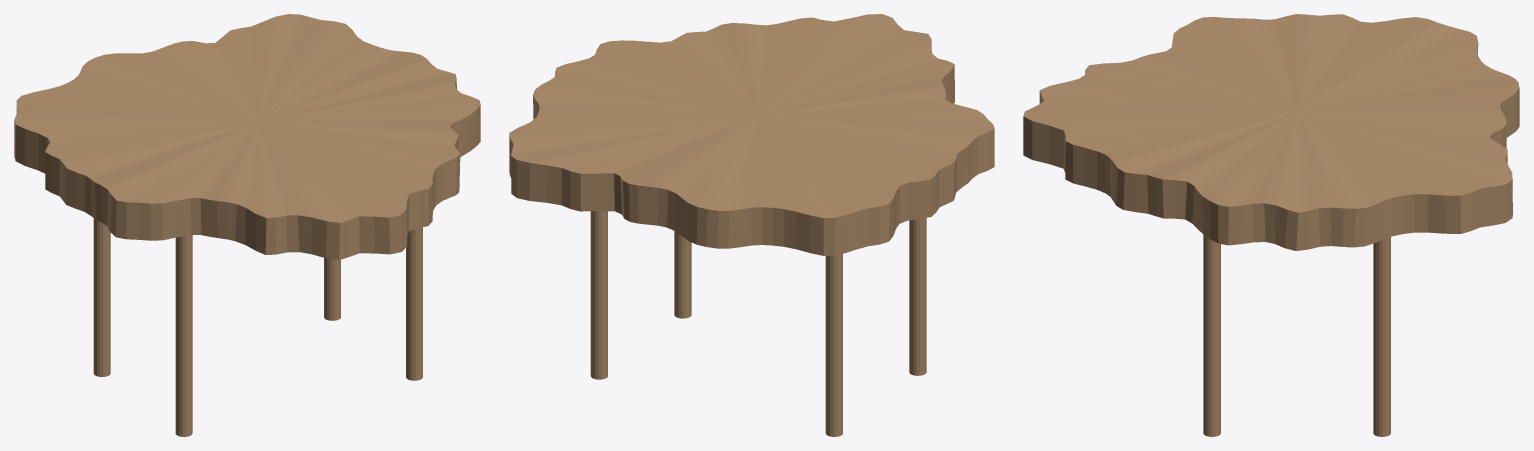
File: mesa_v01_sin_tapete.glb
3 views of the same model, side by side, from view 1: azimuth 30°, elevation 25°; view 2: azimuth 150°, elevation 25°; view 3: azimuth 270°, elevation 25° (orthographic). The views are drawn at different scales.
Visible parts, largest first — view 1: Tapa_Organica_V1, Pata_V1_1, Pata_V1_3, Pata_V1_2, Pata_V1_4; view 2: Tapa_Organica_V1, Pata_V1_3, Pata_V1_4, Pata_V1_1, Pata_V1_2; view 3: Tapa_Organica_V1, Pata_V1_2, Pata_V1_4.
Boxes of the visible parts, x1,y1,x2,y2 form: Tapa_Organica_V1: [14, 14, 480, 260]; Pata_V1_1: [175, 235, 192, 436]; Pata_V1_3: [93, 218, 110, 376]; Pata_V1_2: [406, 227, 422, 380]; Pata_V1_4: [324, 258, 340, 320]; Tapa_Organica_V1: [509, 14, 994, 255]; Pata_V1_3: [825, 254, 842, 436]; Pata_V1_4: [590, 211, 607, 379]; Pata_V1_1: [909, 218, 926, 375]; Pata_V1_2: [674, 231, 691, 318]; Tapa_Organica_V1: [1023, 14, 1519, 250]; Pata_V1_2: [1203, 234, 1220, 436]; Pata_V1_4: [1373, 237, 1390, 436].
Size of the model in its own units: 1.32 by 0.8236 by 1.4.
